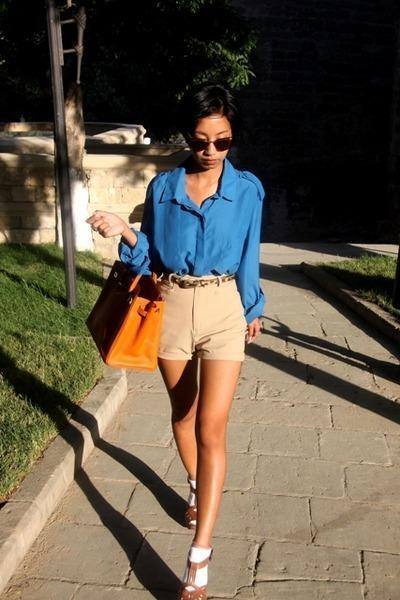bag: (86, 261, 166, 370)
shirt: (118, 159, 264, 322)
shoe: (183, 548, 210, 599)
shorts: (159, 273, 247, 371)
sunglass: (204, 136, 233, 171)
